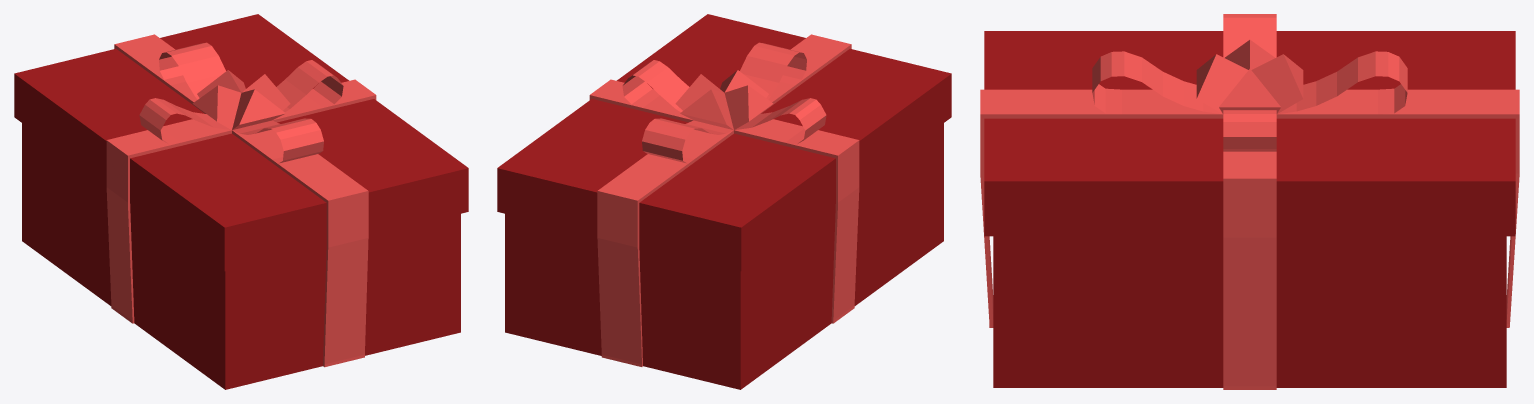
The model's file is Present_Rectangle_Red.fbx.
3 renders of one model, left to right at view 1: azimuth 30°, elevation 25°; view 2: azimuth 150°, elevation 25°; view 3: azimuth 270°, elevation 25°, orthographic. The views are drawn at different scales.
Visible parts, largest first — view 1: Present; view 2: Present; view 3: Present.
Part boxes in pixels (box(x1,y1,x2,y2)): Present: box(14, 14, 468, 389); Present: box(497, 14, 951, 389); Present: box(980, 14, 1519, 389).
Size of the model in its own units: 164 by 130 by 244.
